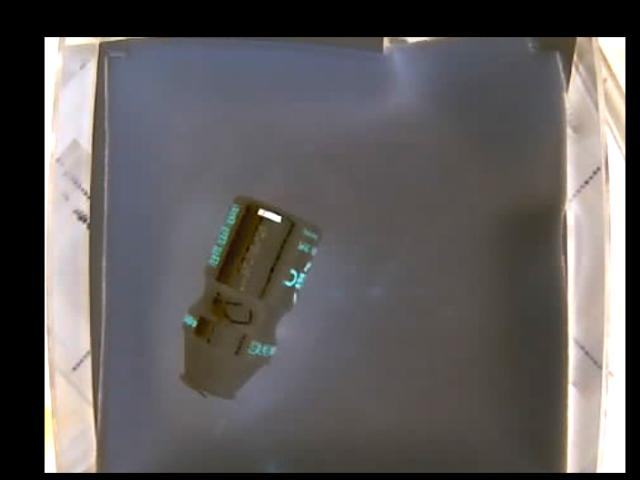Bottle: (178, 192, 322, 402)
